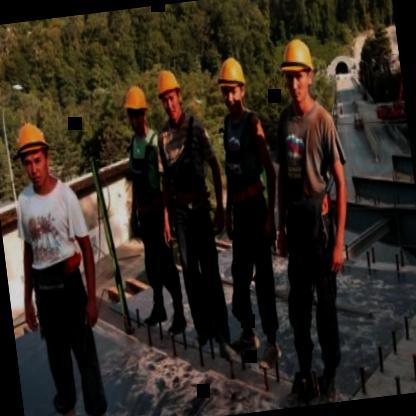helmet: (274, 30, 323, 112), (9, 113, 56, 190), (212, 51, 252, 118), (152, 66, 186, 123), (122, 81, 152, 135)
